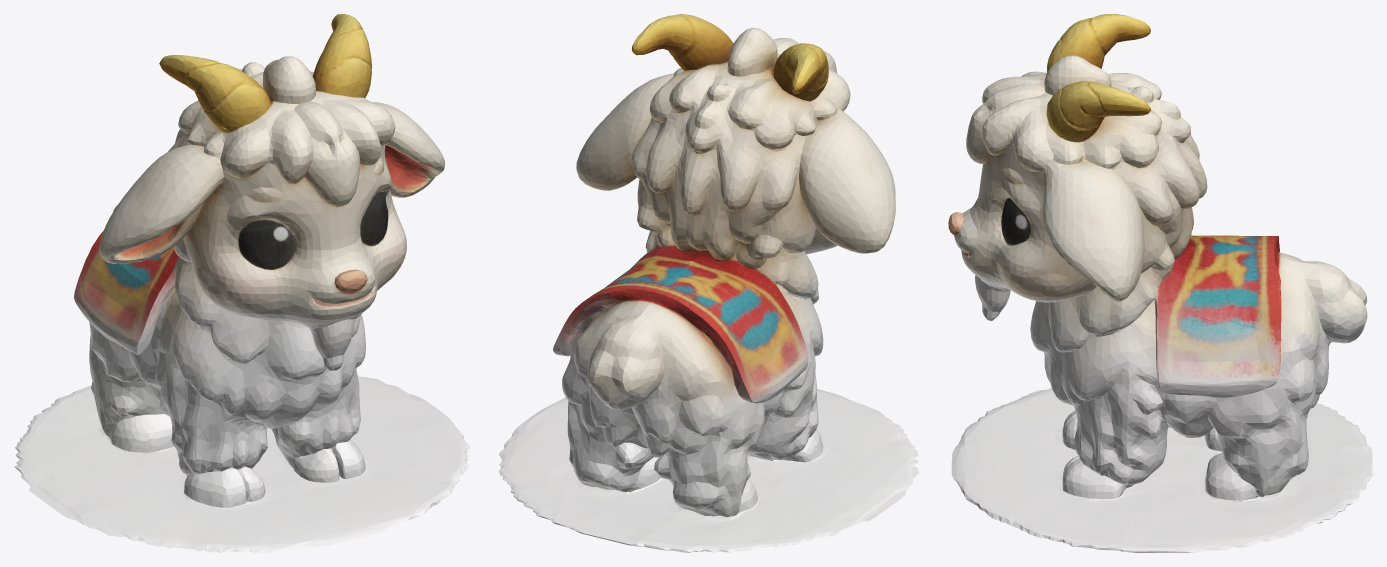
The model's file is cliffkid_raw.glb.
3 renders of one model, left to right at view 1: azimuth 30°, elevation 25°; view 2: azimuth 150°, elevation 25°; view 3: azimuth 270°, elevation 25°, orthographic. The views are drawn at different scales.
Visible parts, largest first — view 1: world; view 2: world; view 3: world.
Boxes of the visible parts, x1=… form: world: x1=14, y1=14, x2=469, y2=552; world: x1=498, y1=14, x2=919, y2=552; world: x1=948, y1=14, x2=1372, y2=552.
Bounding box in the file's own units: 0.9243 × 1 × 0.9309.
1 material, 1 textured.
